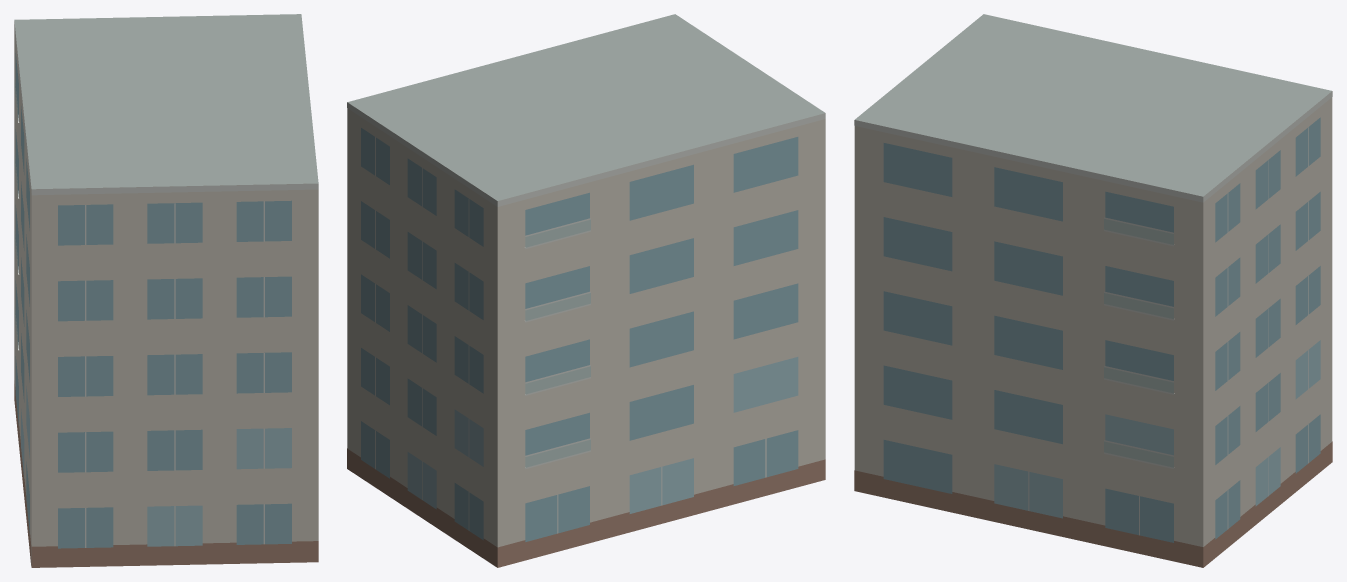
File: survey-upis-32560303.glb
3 views of the same model, side by side, from view 1: azimuth 30°, elevation 25°; view 2: azimuth 150°, elevation 25°; view 3: azimuth 270°, elevation 25° (orthographic). The views are drawn at different scales.
Visible parts, largest first — view 1: survey-upis-32560303.tmp; view 2: survey-upis-32560303.tmp; view 3: survey-upis-32560303.tmp.
Boxes of the visible parts, x1,y1,x2,y2 form: survey-upis-32560303.tmp: [14, 14, 318, 567]; survey-upis-32560303.tmp: [347, 14, 825, 567]; survey-upis-32560303.tmp: [854, 14, 1332, 567].
Size of the model in its own units: 16.11 by 15.25 by 17.81.
